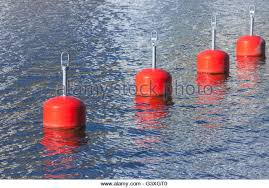buoy: (40, 96, 86, 128), (137, 70, 171, 98), (200, 50, 227, 73), (236, 37, 264, 56)
